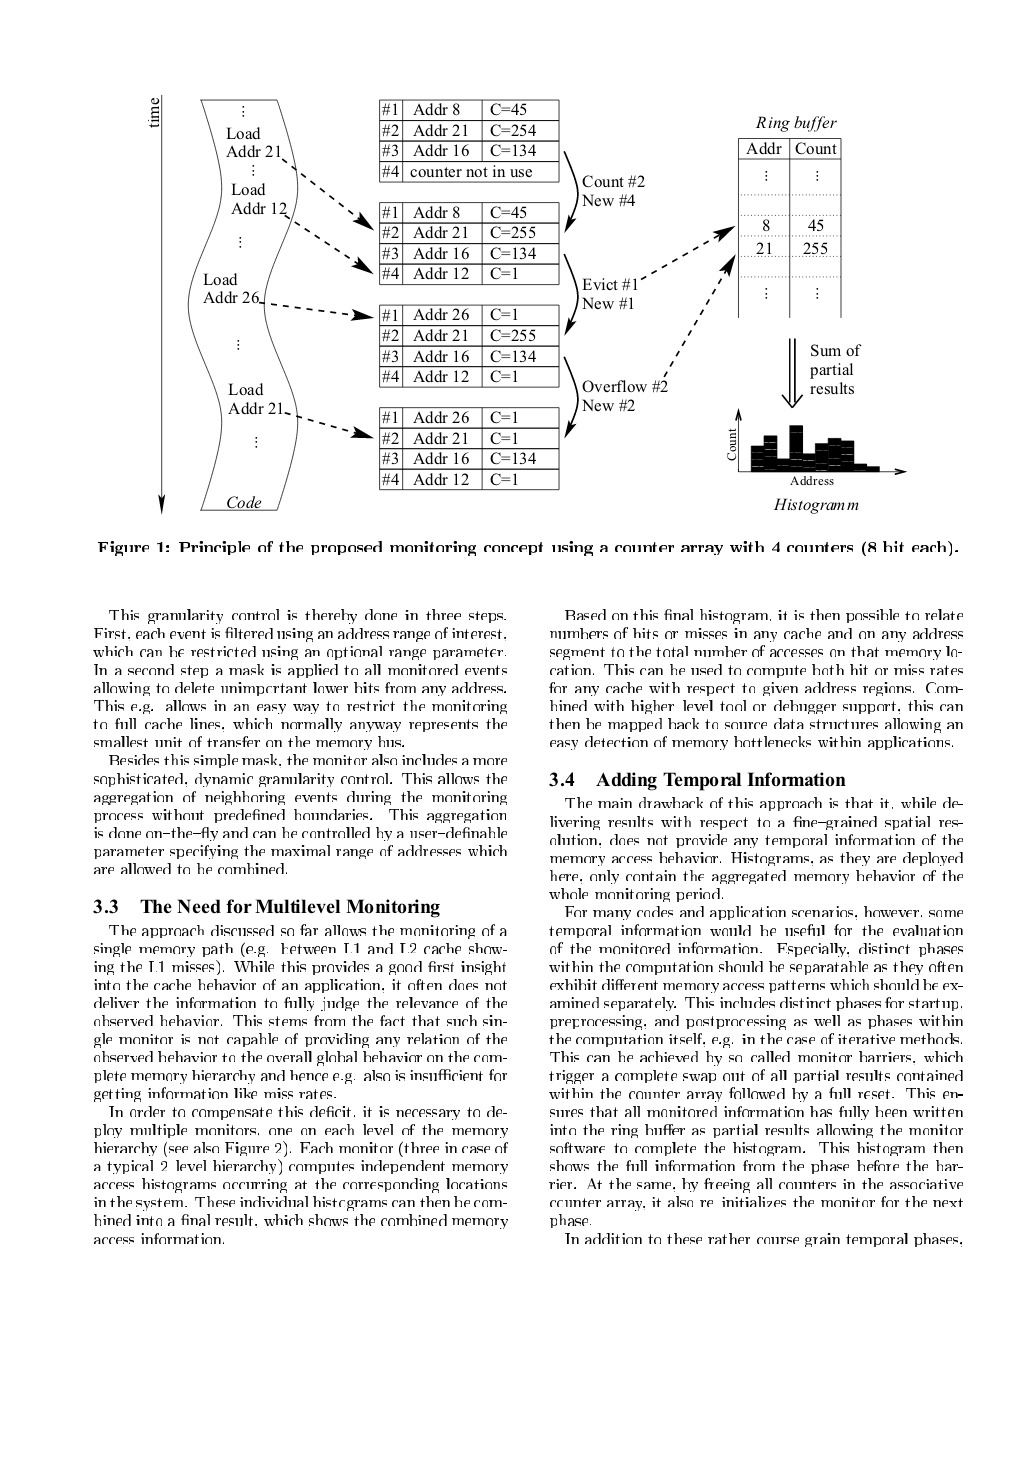figure: (148, 94, 906, 515)
